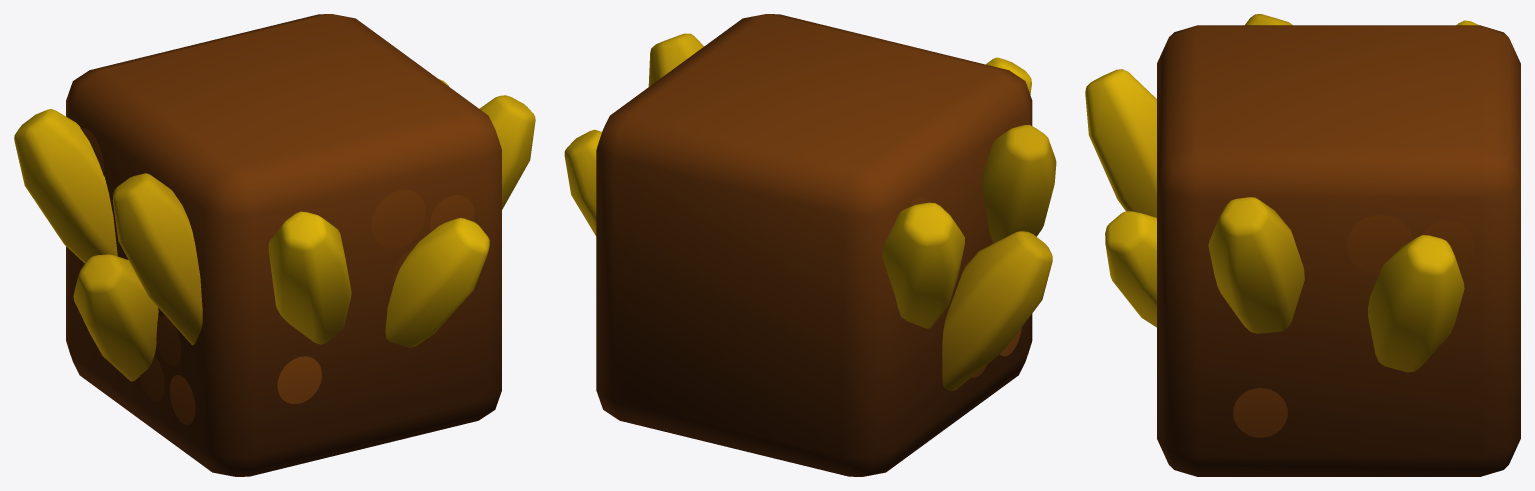
File: BlockBase.fbx
The picture shows the model from 3 angles, left to right: view 1: azimuth 30°, elevation 25°; view 2: azimuth 150°, elevation 25°; view 3: azimuth 270°, elevation 25°; orthographic projection. The views are drawn at different scales.
Visible parts, largest first — view 1: Circle; view 2: Circle; view 3: Circle.
Part boxes in pixels (bbox=[...]): Circle: bbox=[14, 14, 535, 476]; Circle: bbox=[564, 14, 1056, 476]; Circle: bbox=[1085, 14, 1520, 476].
Bounding box in the file's own units: 1.42 × 1 × 1.2.
